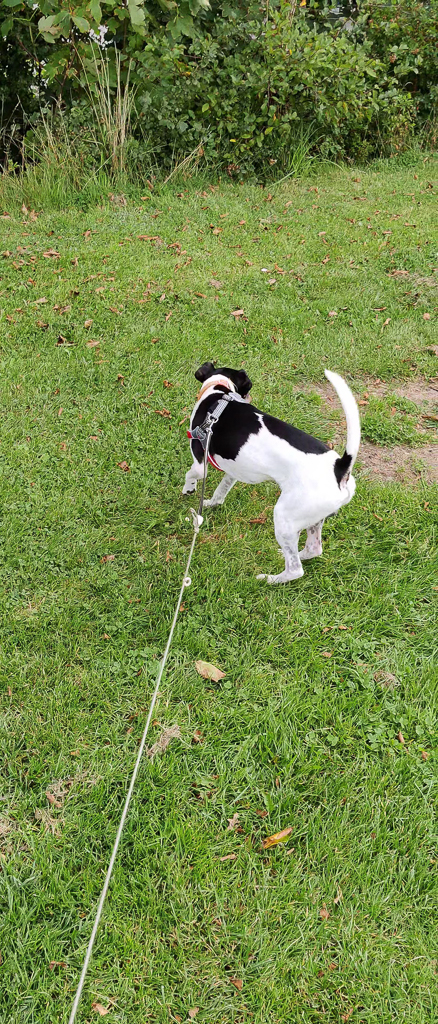Dog: (161, 349, 375, 595)
